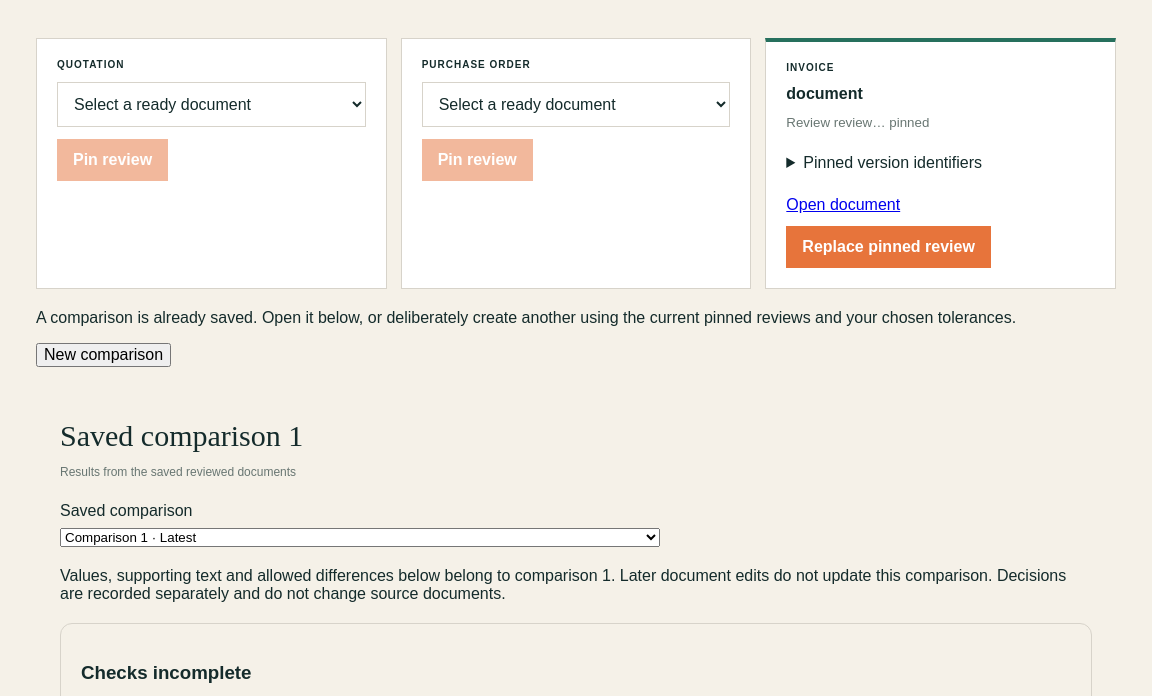
comparison settings disclosure › cancels an edited new comparison without changing its saved snapshot
(page scrolled)
Click the button "New comparison". click: point(104, 354)
box: x1=36 y1=342 x2=171 y2=366
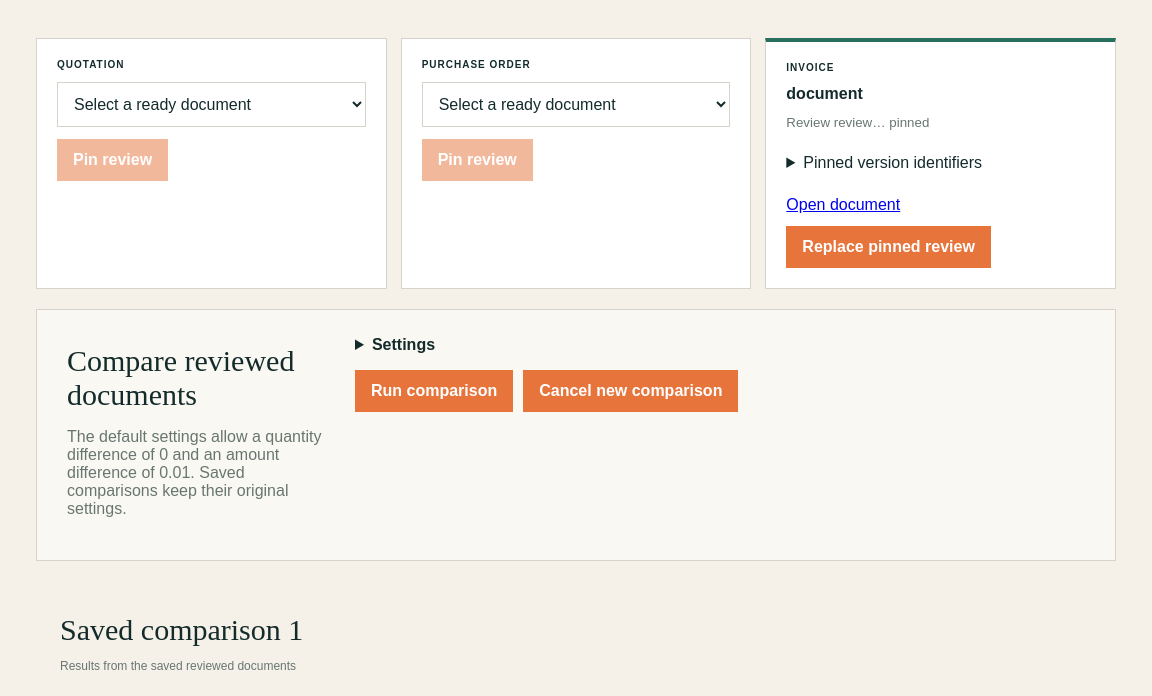
Click the heading "Settings". click: point(403, 344)
box: x1=372 y1=336 x2=435 y2=352
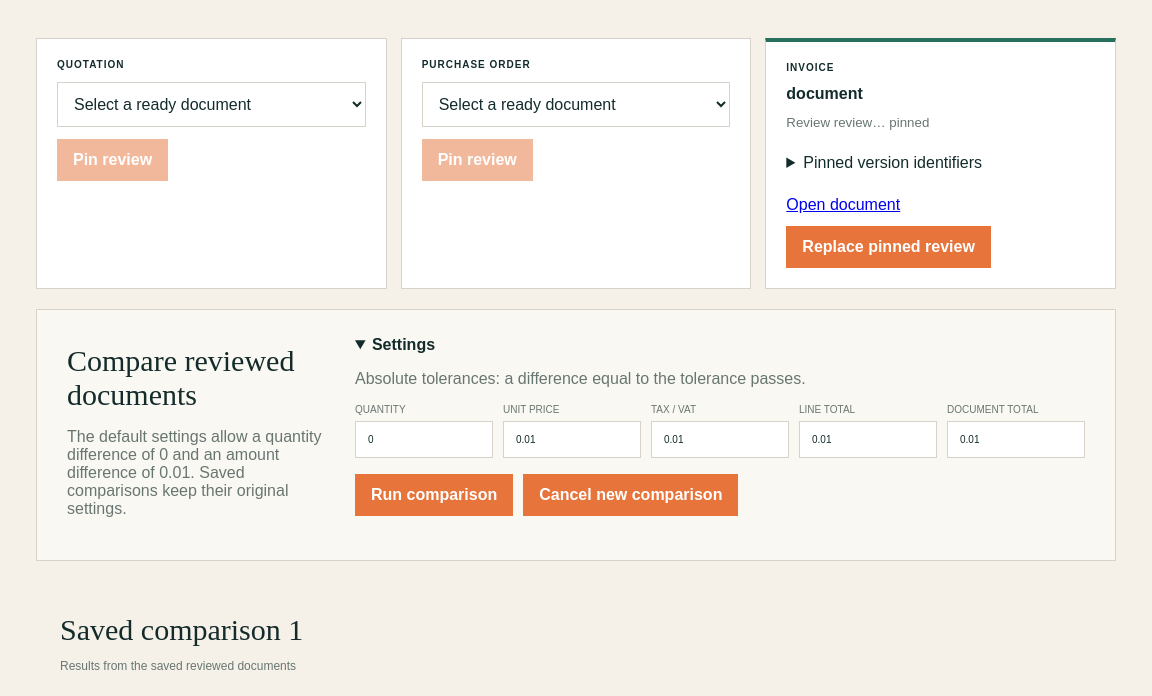
Replace the text in the number field labelled "Quantity" with "3.5". click: point(424, 439)
box: x1=355 y1=420 x2=493 y2=458
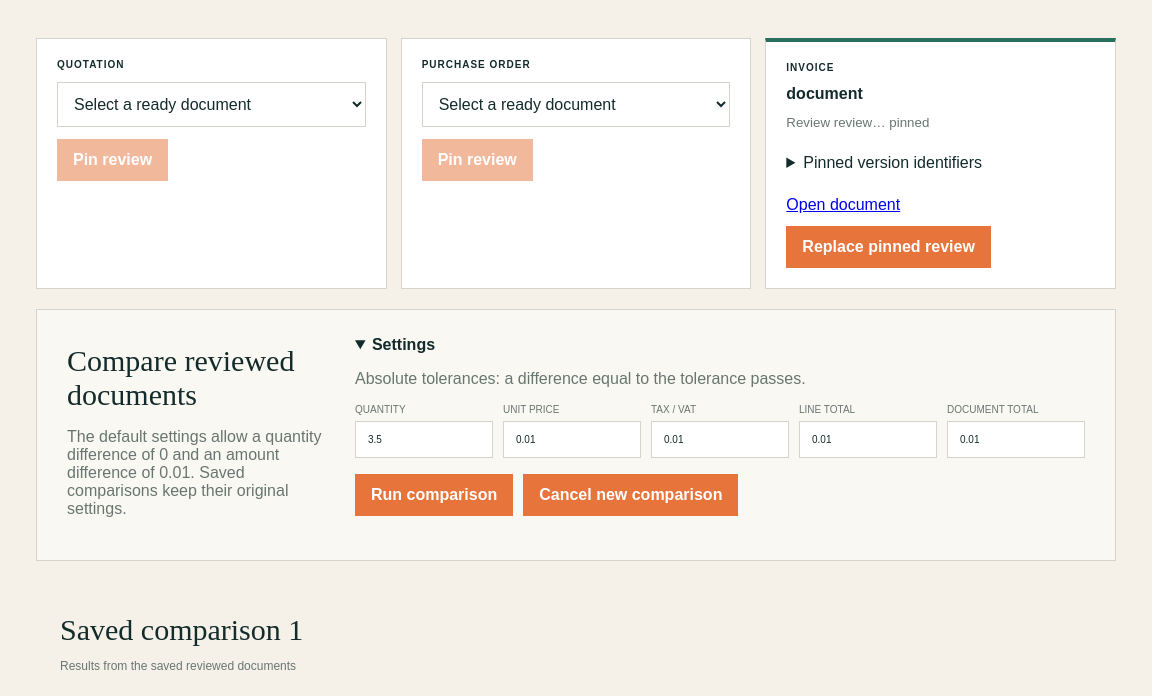
Click the button "Cancel new comparison". click: point(631, 494)
box: x1=523 y1=474 x2=738 y2=516
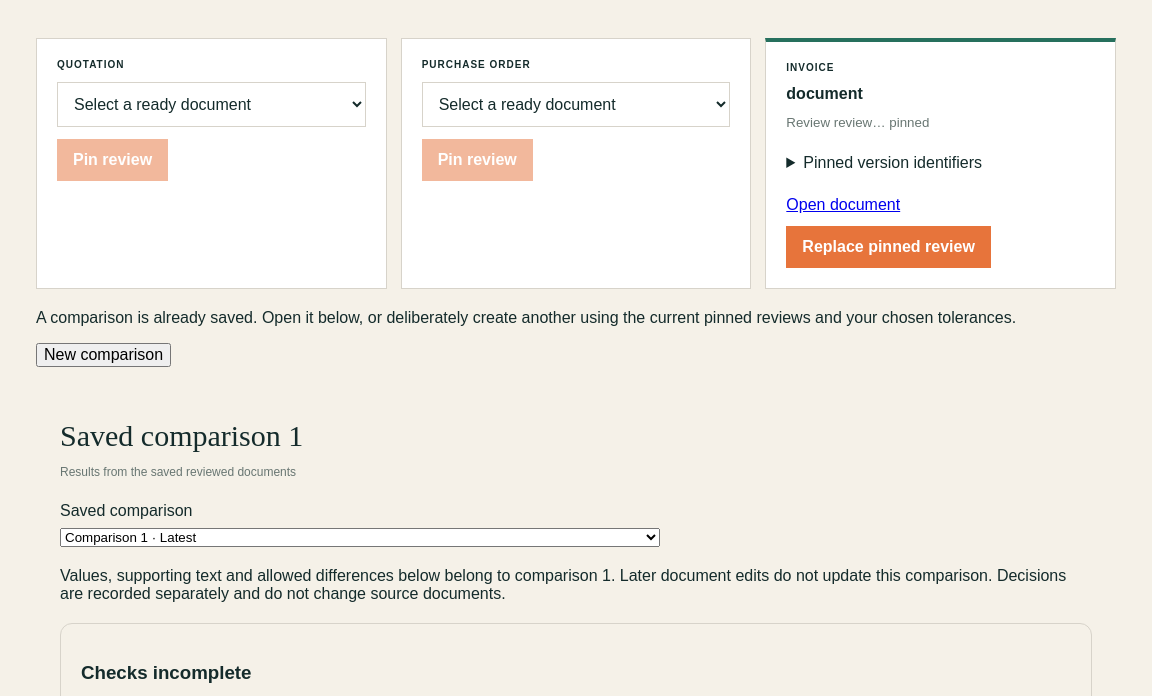
Check: the heading "Saved comparison 1" is shown, box x1=60 y1=418 x2=303 y2=452
Check: the button "Run comparison" is gone
Click the button "New comparison". click: point(104, 354)
box: x1=36 y1=342 x2=171 y2=366
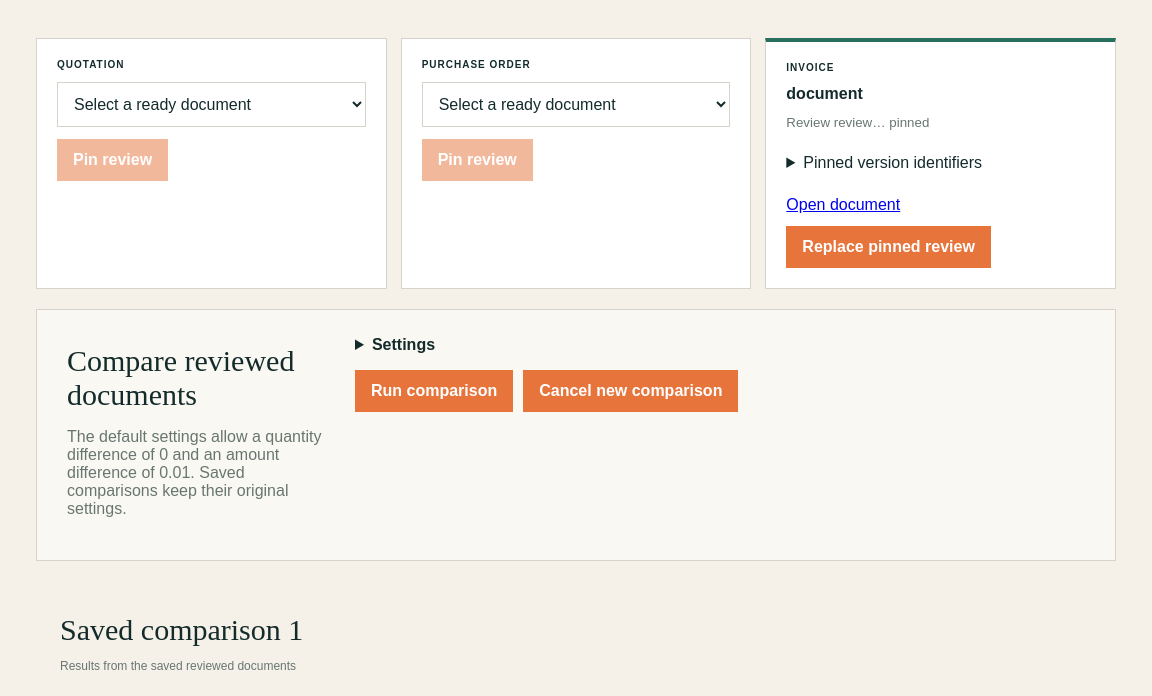
Click the heading "Settings". click: point(403, 344)
box: x1=372 y1=336 x2=435 y2=352
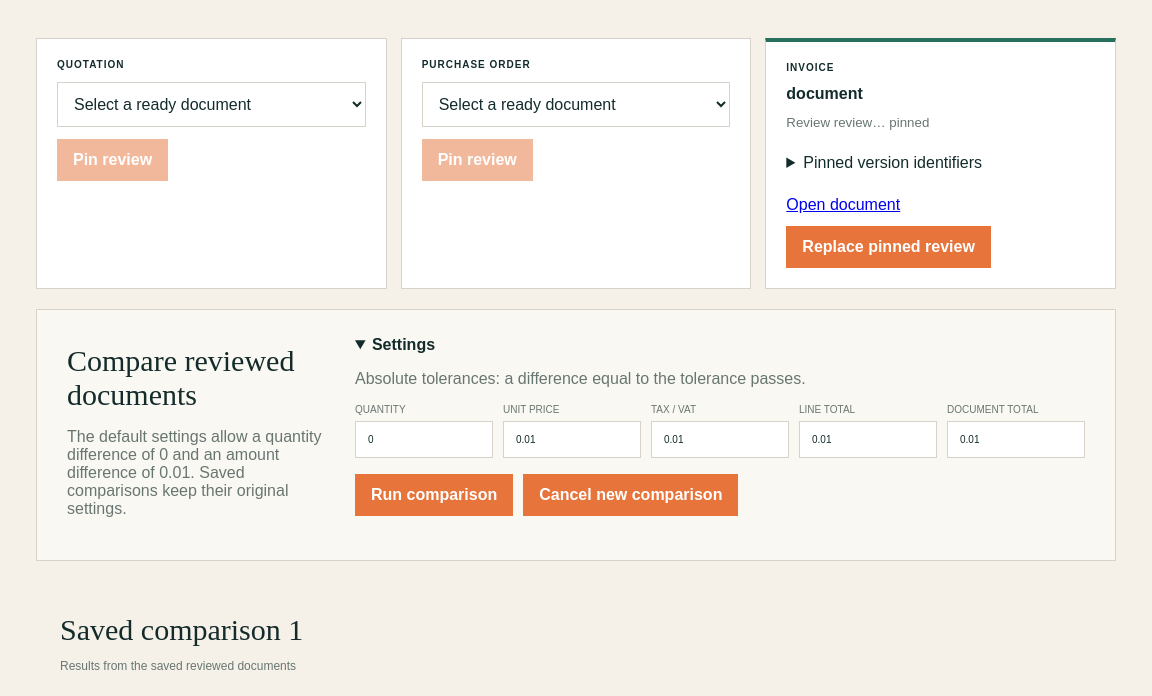
Check: the number field labelled "Quantity" holds "0", box x1=355 y1=420 x2=493 y2=458
